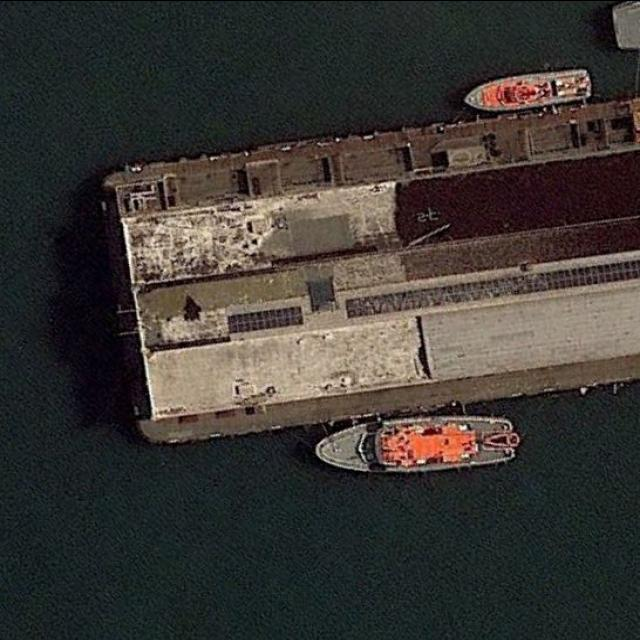ship: (314, 412, 519, 474), (462, 66, 592, 111)
